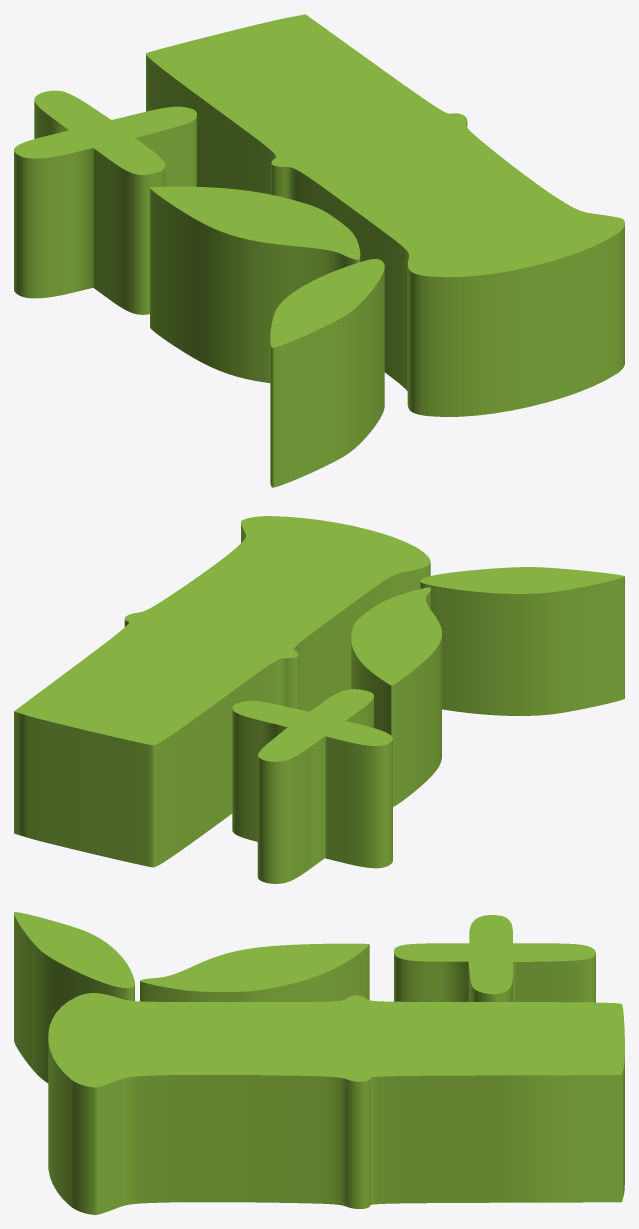
File: EnergyPowerUp.fbx
The picture shows the model from 3 angles, top to bottom: view 1: azimuth 30°, elevation 25°; view 2: azimuth 150°, elevation 25°; view 3: azimuth 270°, elevation 25°; orthographic projection. The views are drawn at different scales.
Visible parts, largest first — view 1: Curve; view 2: Curve; view 3: Curve.
Boxes of the visible parts, x1,y1,x2,y2 form: Curve: (14, 14, 624, 487); Curve: (14, 516, 624, 883); Curve: (14, 912, 624, 1214).
Size of the model in its own units: 73.29 by 24.81 by 108.
